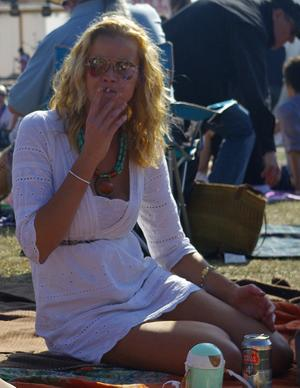person: (11, 11, 295, 383)
